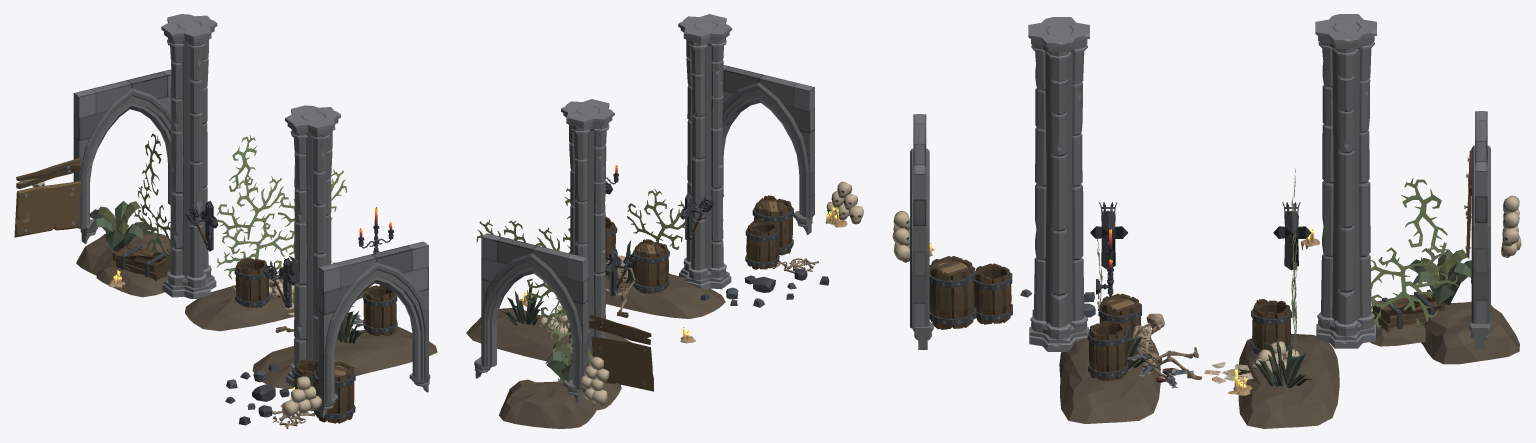
File: crypt_nave_end.gltf
The picture shows the model from 3 angles, left to right: view 1: azimuth 30°, elevation 25°; view 2: azimuth 150°, elevation 25°; view 3: azimuth 270°, elevation 25°; orthographic projection. The views are drawn at different scales.
Visible parts, largest first — view 1: crypt_nave_end; view 2: crypt_nave_end; view 3: crypt_nave_end.
Part boxes in pixels (box(x1,y1,x2,y2)): crypt_nave_end: box(14, 14, 437, 428); crypt_nave_end: box(466, 14, 863, 428); crypt_nave_end: box(892, 14, 1521, 428).
Size of what is drawn, in the model's own units: 6.36 by 6.27 by 11.06.
Materials: 3 (3 with a texture image).
